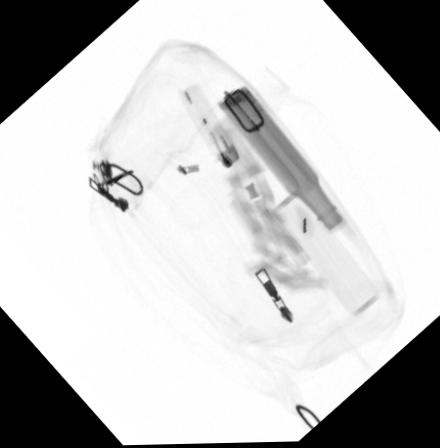Lighter: (174, 83, 241, 172)
